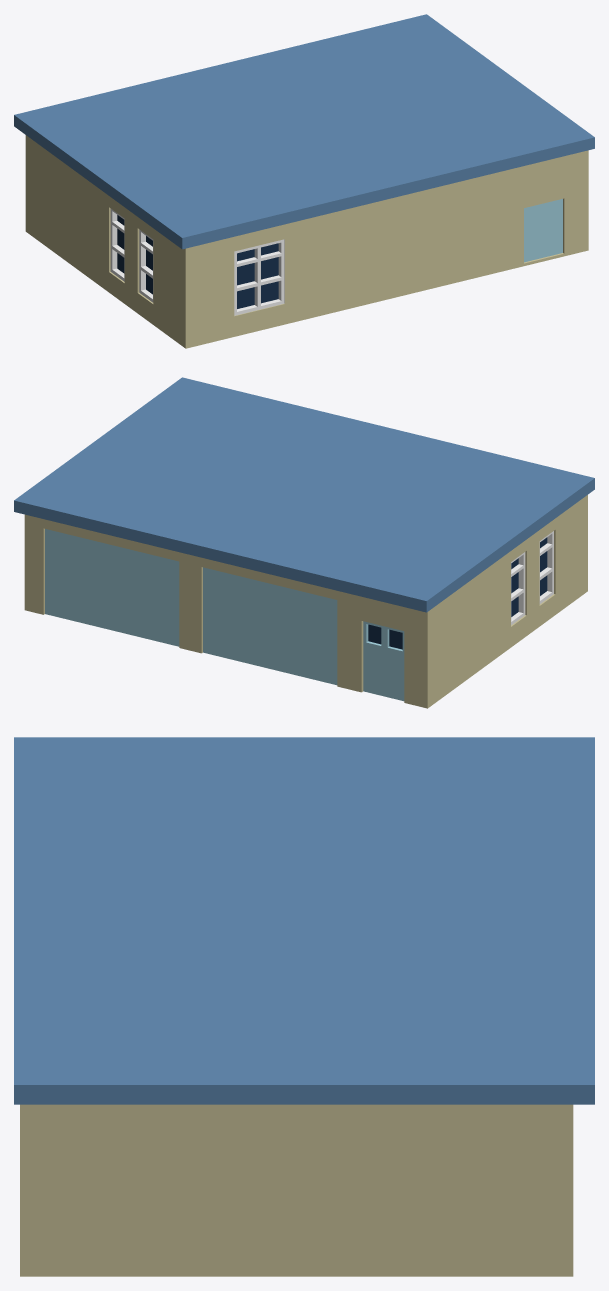
File: Building_z1.fbx
3 renders of one model, top to bottom at view 1: azimuth 30°, elevation 25°; view 2: azimuth 150°, elevation 25°; view 3: azimuth 270°, elevation 25°, orthographic. The views are drawn at different scales.
Visible parts, largest first — view 1: Building_z1; view 2: Building_z1; view 3: Building_z1.
Boxes of the visible parts, left/top/right/bottom form: Building_z1: left=14, top=14, right=594, bottom=348; Building_z1: left=14, top=377, right=594, bottom=708; Building_z1: left=14, top=737, right=594, bottom=1276.
Bounding box in the file's own units: 12.9 × 3.38 × 9.11.
